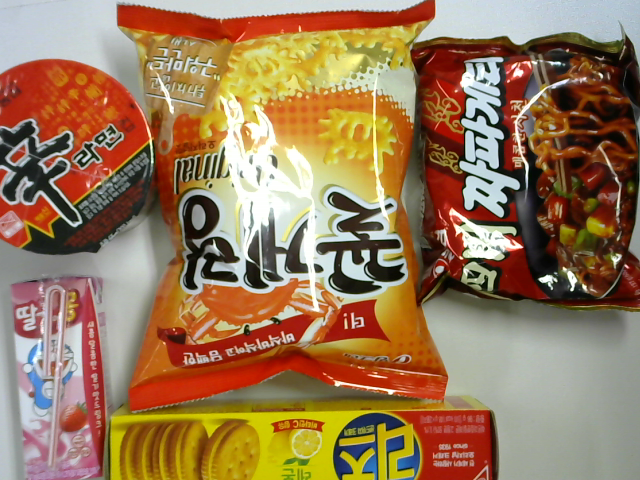Crabrang: (119, 4, 447, 412)
Ritz_Remon_96g: (103, 400, 496, 480)
Sichuan_Chapaghetti: (415, 32, 640, 315)
Sinramen_small: (3, 60, 155, 258)
Strawberry_E_Mong: (9, 272, 113, 480)
